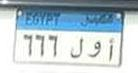6: (47, 34, 60, 58), (22, 32, 34, 57), (34, 33, 45, 58)
alif: (107, 36, 116, 62)
laam: (68, 34, 85, 59)
waw: (87, 39, 102, 61)
